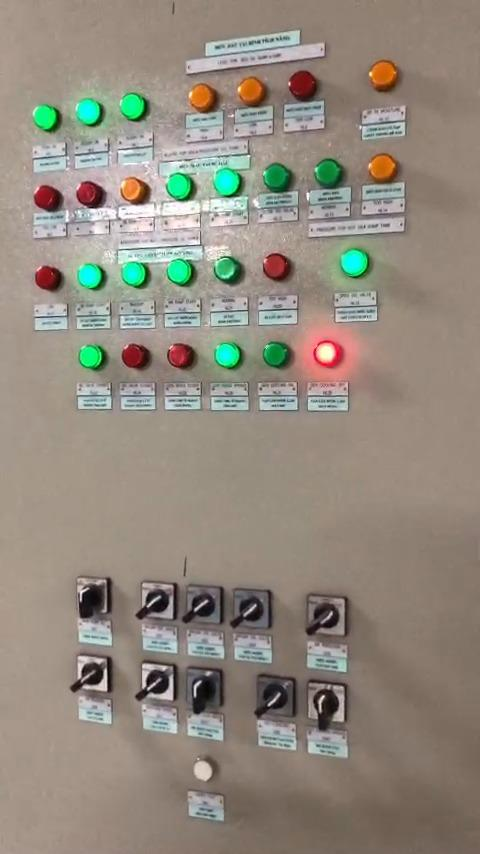led: (369, 56, 405, 91), (263, 339, 298, 374), (367, 153, 403, 186), (340, 248, 374, 280), (315, 341, 349, 373), (162, 341, 195, 373), (120, 91, 151, 124), (262, 161, 293, 194), (262, 251, 293, 284), (214, 256, 245, 288), (165, 258, 196, 289), (289, 70, 320, 101), (163, 172, 195, 202), (237, 79, 270, 108), (31, 103, 60, 134), (315, 160, 346, 189), (208, 168, 241, 195), (74, 181, 104, 210), (79, 343, 107, 374), (119, 346, 150, 374), (34, 265, 63, 294), (190, 84, 219, 113), (119, 176, 146, 206), (33, 186, 63, 213), (213, 340, 240, 370), (77, 98, 105, 126), (120, 261, 148, 289), (80, 264, 105, 293), (190, 759, 215, 788)
twist: (305, 595, 350, 644), (309, 680, 353, 730), (77, 578, 117, 624), (233, 588, 271, 634), (140, 581, 178, 625), (259, 678, 295, 723), (73, 658, 112, 699), (185, 669, 220, 714), (184, 589, 220, 628), (140, 662, 173, 703)
